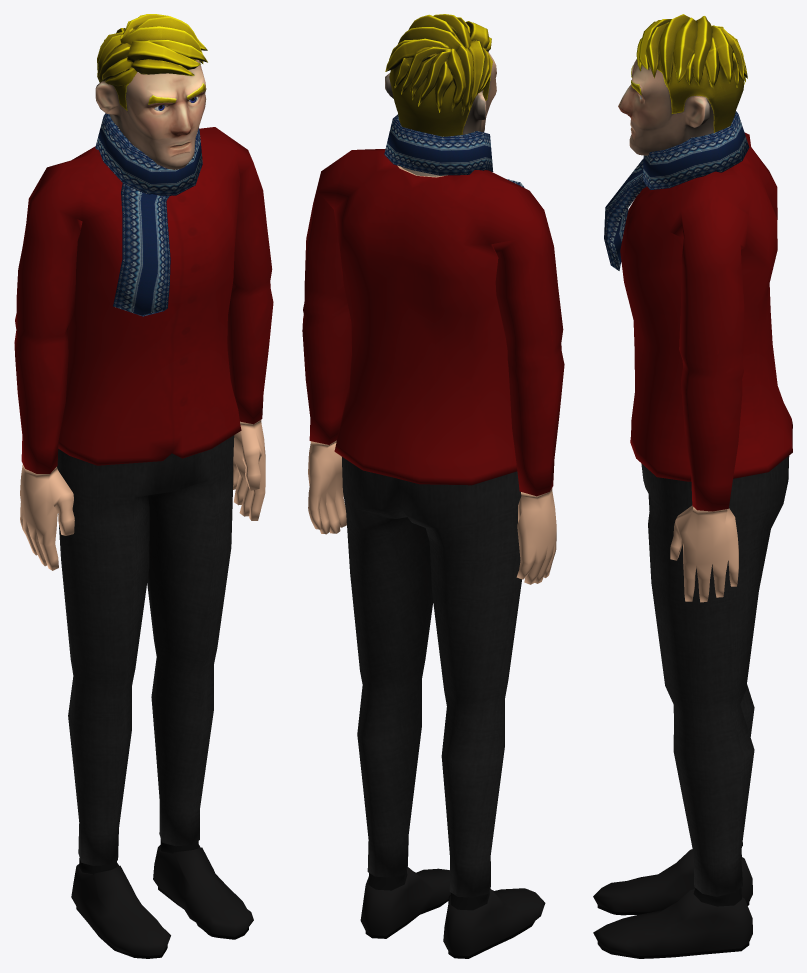
File: NPC3.glb
3 renders of one model, left to right at view 1: azimuth 30°, elevation 25°; view 2: azimuth 150°, elevation 25°; view 3: azimuth 270°, elevation 25°, orthographic.
Parts seen in each view (by area): view 1: M_lBody_BaseMesh.001, M_lBody_BaseMesh.006; view 2: M_lBody_BaseMesh.001, M_lBody_BaseMesh.006; view 3: M_lBody_BaseMesh.001, M_lBody_BaseMesh.006.
Part boxes in pixels (<box>): M_lBody_BaseMesh.001: <box>14,14,273,958</box>; M_lBody_BaseMesh.006: <box>95,113,202,316</box>; M_lBody_BaseMesh.001: <box>302,14,564,958</box>; M_lBody_BaseMesh.006: <box>384,114,524,187</box>; M_lBody_BaseMesh.001: <box>593,14,792,958</box>; M_lBody_BaseMesh.006: <box>604,111,749,270</box>.
Size of what is drawn, in the model's own units: 0.544 by 1.87 by 0.372.
3 materials, 3 textured.
